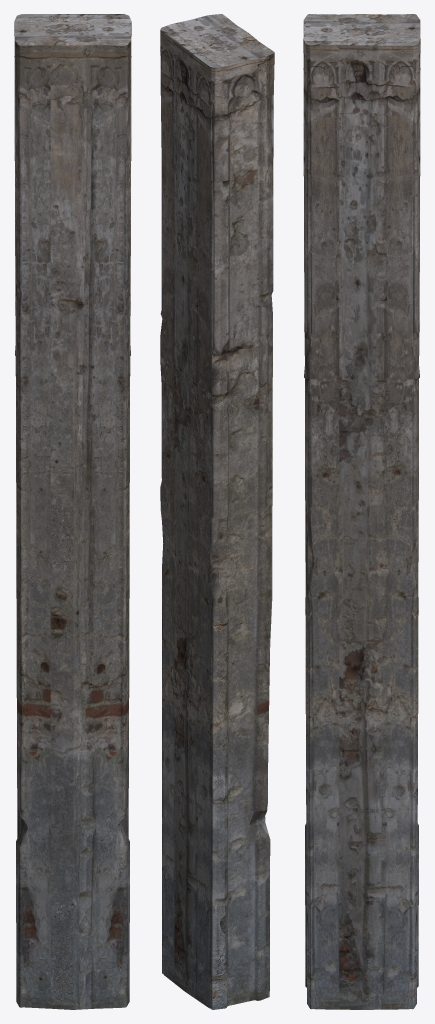
The model's file is SM_ChapelColumn_03_01.fbx.
The picture shows the model from 3 angles, left to right: view 1: azimuth 90°, elevation 25°; view 2: azimuth 210°, elevation 25°; view 3: azimuth 270°, elevation 25°; orthographic projection. The views are drawn at different scales.
Parts seen in each view (by area): view 1: sm_ChapelColumn_03_01_LOD0; view 2: sm_ChapelColumn_03_01_LOD0; view 3: sm_ChapelColumn_03_01_LOD0.
Boxes of the visible parts, x1=… form: sm_ChapelColumn_03_01_LOD0: x1=14, y1=14, x2=131, y2=1009; sm_ChapelColumn_03_01_LOD0: x1=160, y1=14, x2=274, y2=1009; sm_ChapelColumn_03_01_LOD0: x1=303, y1=14, x2=420, y2=1009.
Bounding box in the file's own units: 60.58 × 38.92 × 550.
